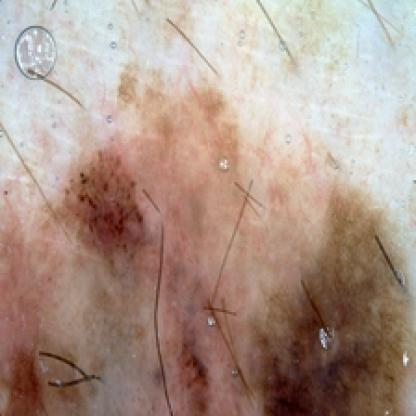malignant: (19, 128, 398, 403)
